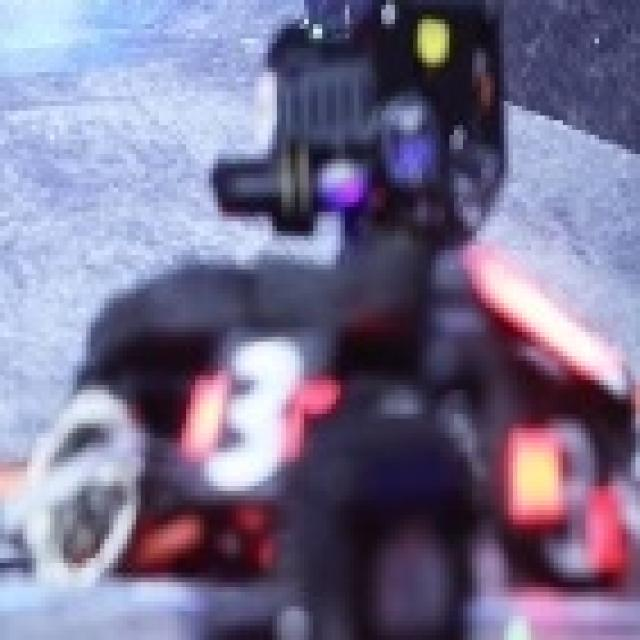R3: (182, 337, 326, 486), (517, 414, 613, 577)
